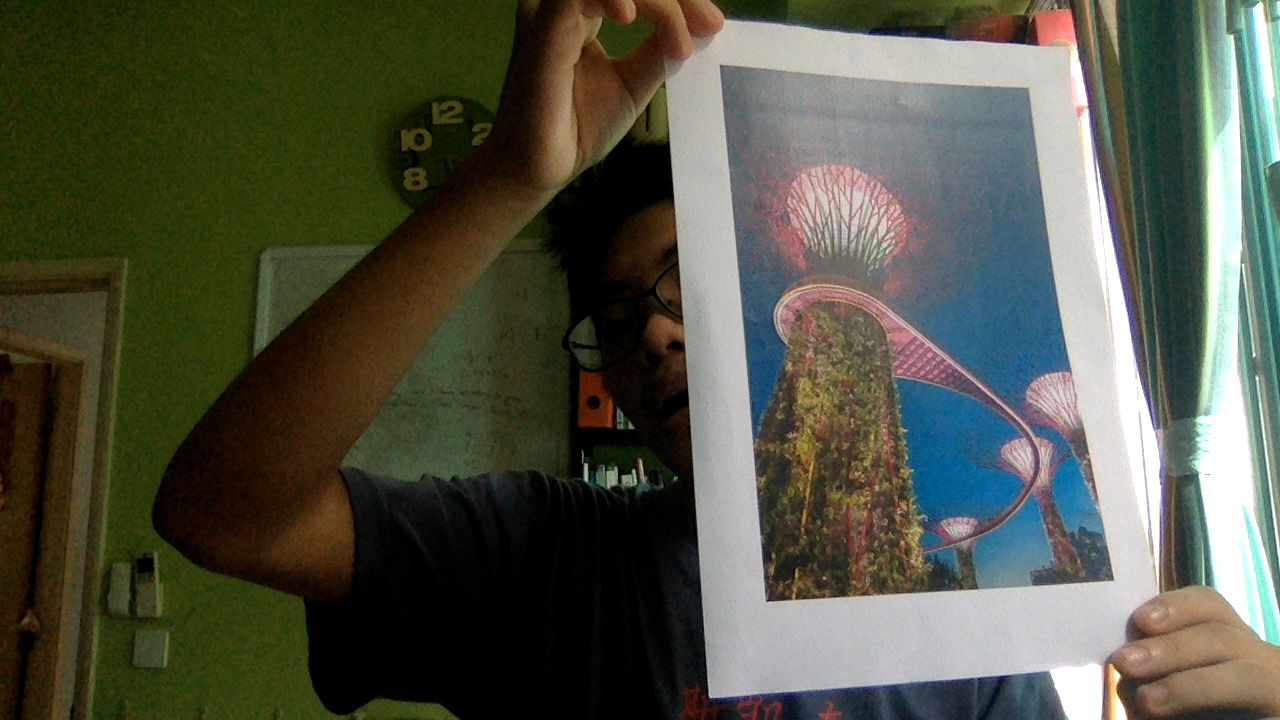GBTB: (700, 56, 1123, 602)
